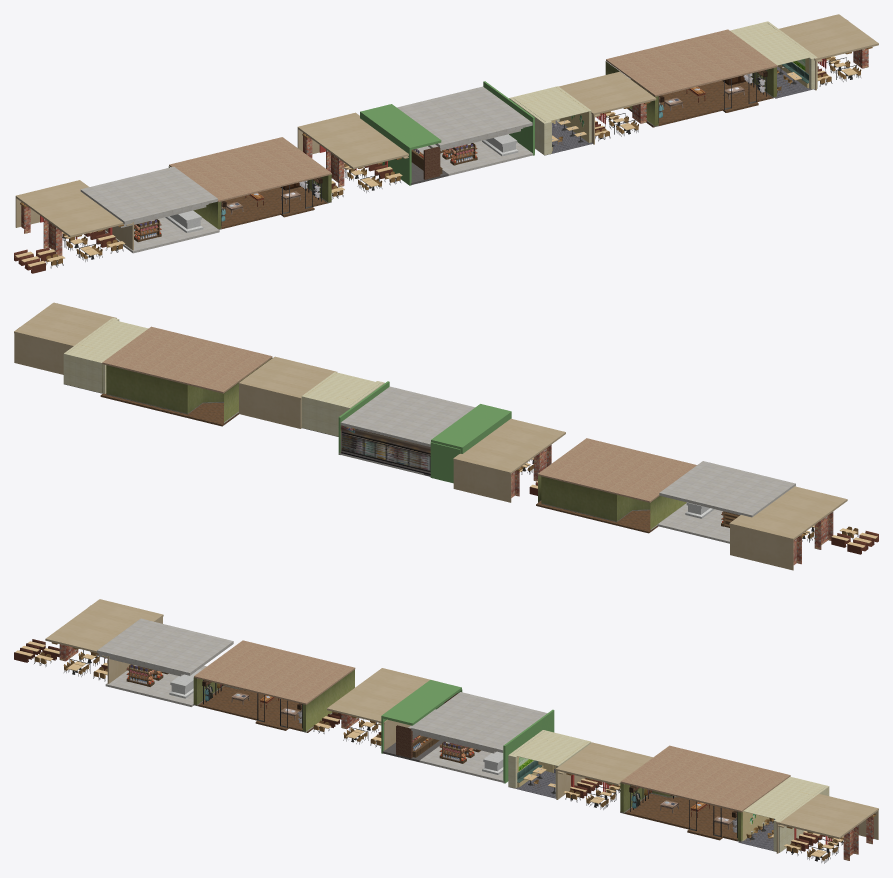
Rendered from nanjingxizhan__shop.FBX.
The picture shows the model from 3 angles, top to bottom: view 1: azimuth 30°, elevation 25°; view 2: azimuth 150°, elevation 25°; view 3: azimuth 330°, elevation 25°; orthographic projection.
Parts seen in each view (by area): view 1: nanjingxizhan_shop_11, nanjingxizhan_shop_03, nanjingxizhan_shop_26, nanjingxizhan_shop_24, nanjingxizhan_shop_19, nanjingxizhan_shop_05, nanjingxizhan_shop_10, nanjingxizhan_shop_25, nanjingxizhan_shop_08, nanjingxizhan_shop_28, nanjingxizhan_shop_12, nanjingxizhan_shop_16 (+8 smaller); view 2: nanjingxizhan_shop_11, nanjingxizhan_shop_26, nanjingxizhan_shop_03, nanjingxizhan_shop_25, nanjingxizhan_shop_19, nanjingxizhan_shop_05, nanjingxizhan_shop_07, nanjingxizhan_shop_24, nanjingxizhan_shop_10, nanjingxizhan_shop_14; view 3: nanjingxizhan_shop_11, nanjingxizhan_shop_26, nanjingxizhan_shop_03, nanjingxizhan_shop_24, nanjingxizhan_shop_19, nanjingxizhan_shop_05, nanjingxizhan_shop_25, nanjingxizhan_shop_08, nanjingxizhan_shop_12, nanjingxizhan_shop_28, nanjingxizhan_shop_14, nanjingxizhan_shop_16 (+7 smaller).
Boxes of the visible parts, bbox=[...] form: nanjingxizhan_shop_11: bbox=[15, 14, 878, 250]; nanjingxizhan_shop_03: bbox=[80, 86, 534, 253]; nanjingxizhan_shop_26: bbox=[169, 29, 777, 201]; nanjingxizhan_shop_24: bbox=[221, 80, 773, 228]; nanjingxizhan_shop_19: bbox=[509, 21, 817, 155]; nanjingxizhan_shop_05: bbox=[360, 81, 534, 185]; nanjingxizhan_shop_10: bbox=[21, 48, 868, 256]; nanjingxizhan_shop_25: bbox=[168, 61, 777, 229]; nanjingxizhan_shop_08: bbox=[20, 47, 872, 265]; nanjingxizhan_shop_28: bbox=[221, 70, 767, 225]; nanjingxizhan_shop_12: bbox=[15, 56, 857, 266]; nanjingxizhan_shop_16: bbox=[544, 66, 817, 155]; nanjingxizhan_shop_11: bbox=[14, 302, 847, 570]; nanjingxizhan_shop_26: bbox=[102, 326, 696, 502]; nanjingxizhan_shop_03: bbox=[339, 386, 795, 543]; nanjingxizhan_shop_25: bbox=[102, 358, 686, 530]; nanjingxizhan_shop_19: bbox=[63, 317, 384, 436]; nanjingxizhan_shop_05: bbox=[338, 381, 511, 483]; nanjingxizhan_shop_07: bbox=[340, 425, 723, 523]; nanjingxizhan_shop_24: bbox=[100, 393, 658, 533]; nanjingxizhan_shop_10: bbox=[511, 445, 833, 564]; nanjingxizhan_shop_14: bbox=[529, 482, 878, 554]; nanjingxizhan_shop_11: bbox=[45, 599, 878, 853]; nanjingxizhan_shop_26: bbox=[194, 640, 790, 812]; nanjingxizhan_shop_03: bbox=[96, 618, 547, 782]; nanjingxizhan_shop_24: bbox=[197, 686, 737, 841]; nanjingxizhan_shop_19: bbox=[508, 730, 829, 852]; nanjingxizhan_shop_05: bbox=[381, 680, 554, 783]; nanjingxizhan_shop_25: bbox=[193, 669, 742, 842]; nanjingxizhan_shop_08: bbox=[34, 605, 876, 860]; nanjingxizhan_shop_12: bbox=[15, 641, 843, 857]; nanjingxizhan_shop_28: bbox=[202, 680, 737, 837]; nanjingxizhan_shop_14: bbox=[14, 639, 825, 851]; nanjingxizhan_shop_16: bbox=[509, 771, 779, 852].
Size of the model in its own units: 91157 by 3996 by 11337.
